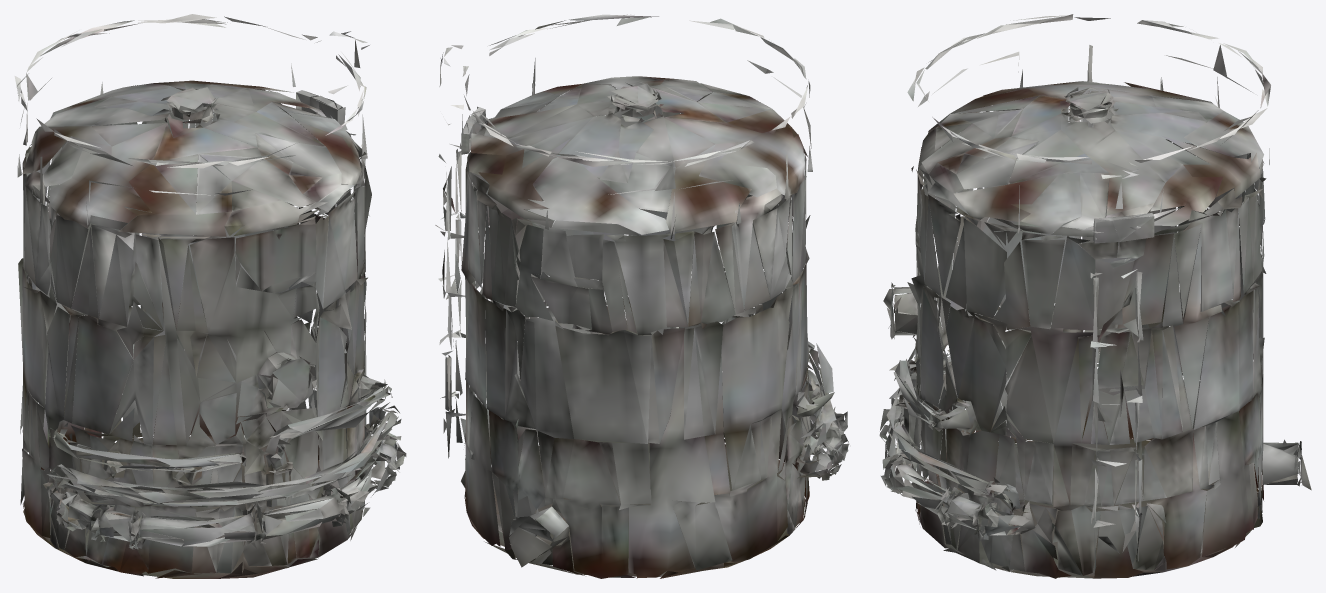
Rendered from tank_vertical.glb.
3 views of the same model, side by side, from view 1: azimuth 30°, elevation 25°; view 2: azimuth 150°, elevation 25°; view 3: azimuth 270°, elevation 25° (orthographic).
Visible parts, largest first — view 1: Mesh_0; view 2: Mesh_0; view 3: Mesh_0.
Part boxes in pixels (x1=…): Mesh_0: x1=14, y1=14, x2=406, y2=578; Mesh_0: x1=435, y1=14, x2=849, y2=578; Mesh_0: x1=879, y1=14, x2=1311, y2=578.
Size of the model in its own units: 1.68 by 1.92 by 1.77.
1 material, 1 textured.
